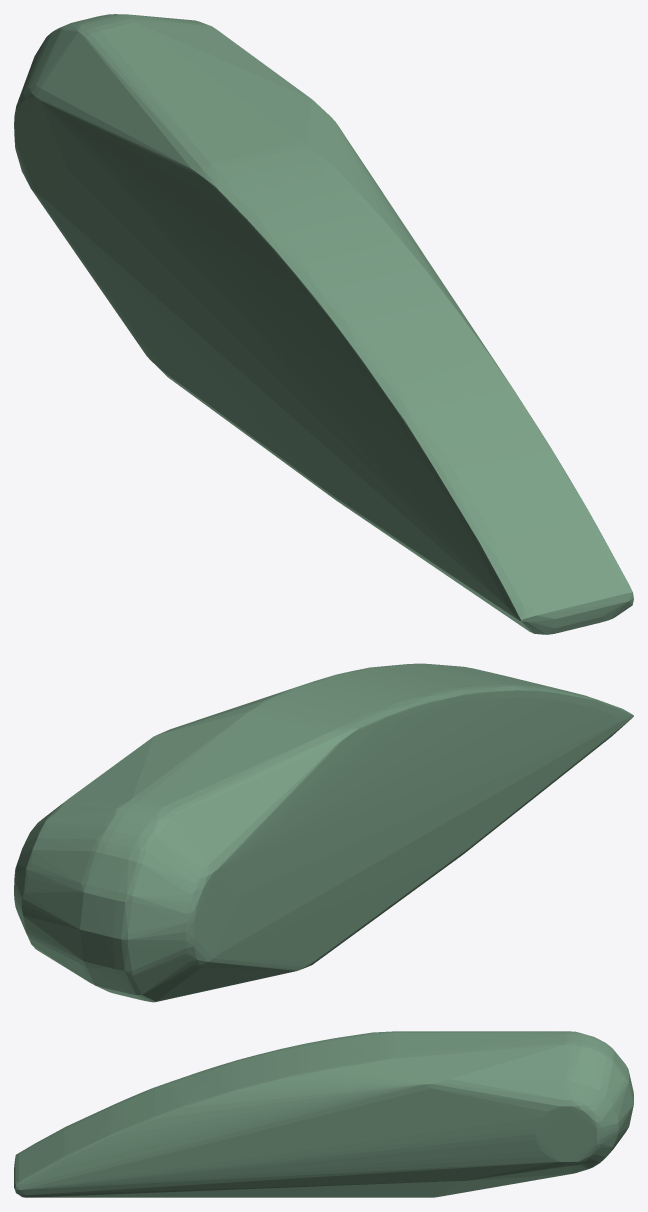
The model's file is gripper_l1.obj.
3 renders of one model, top to bottom at view 1: azimuth 30°, elevation 25°; view 2: azimuth 150°, elevation 25°; view 3: azimuth 270°, elevation 25°, orthographic. The views are drawn at different scales.
Parts seen in each view (by area): view 1: geometry_0; view 2: geometry_0; view 3: geometry_0.
Part boxes in pixels (bbox=[...]): geometry_0: bbox=[14, 14, 633, 634]; geometry_0: bbox=[14, 663, 633, 1002]; geometry_0: bbox=[14, 1031, 633, 1197].
Size of the model in its own units: 0.0379 by 0.0462 by 0.1742.
